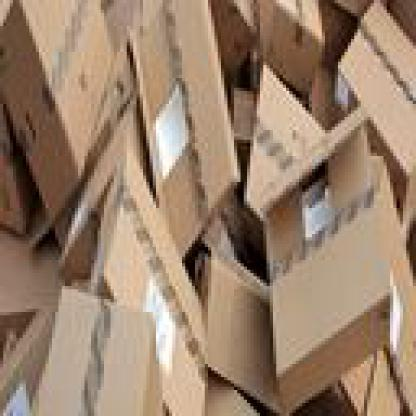CARDBOARD: (0, 0, 413, 413), (257, 98, 393, 410), (124, 0, 234, 250), (100, 156, 202, 413), (0, 0, 107, 211), (0, 283, 156, 413), (331, 0, 413, 215), (198, 237, 286, 410), (335, 234, 413, 413), (237, 61, 325, 204), (0, 228, 88, 312), (250, 0, 322, 94), (0, 104, 33, 235), (211, 0, 251, 85)
